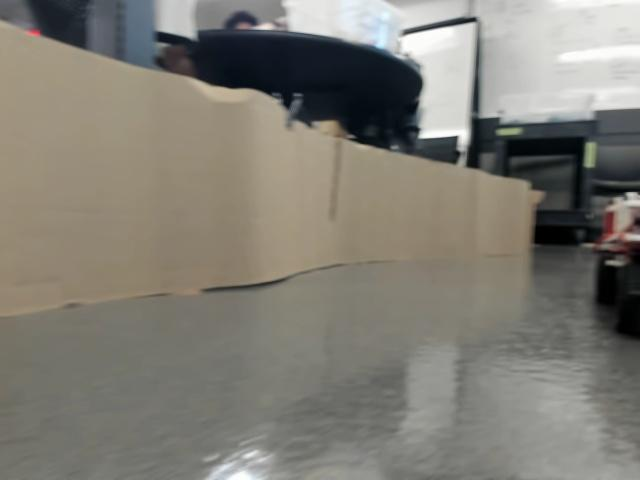Car: (595, 191, 639, 338)
